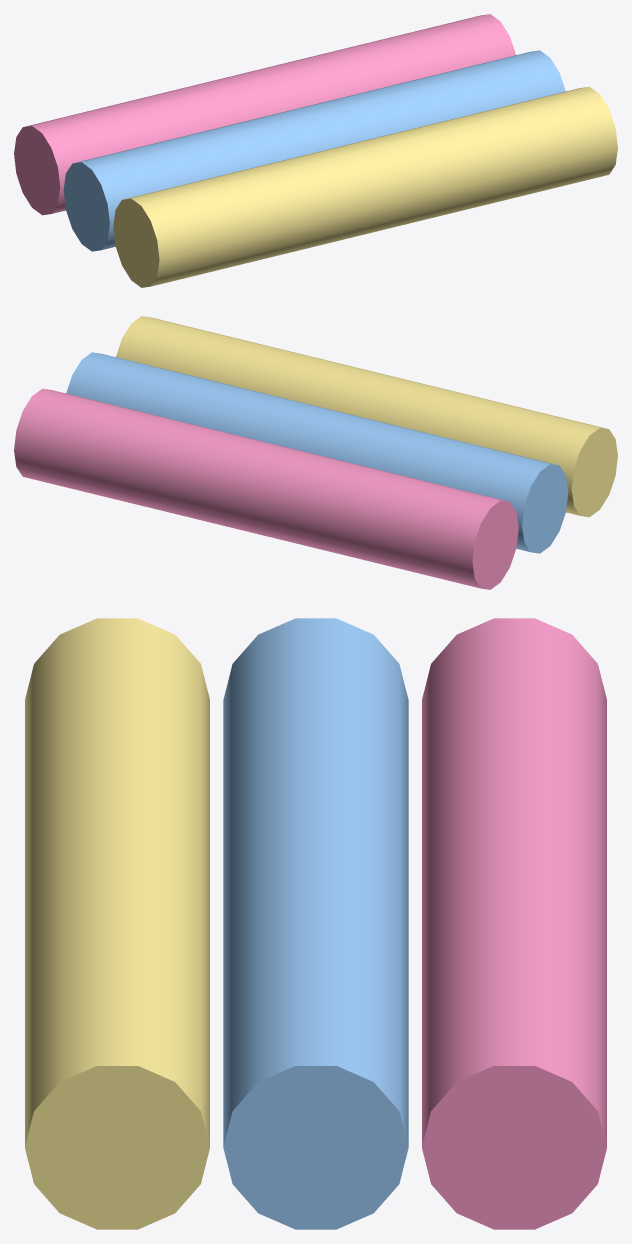
Rendered from fabric_roll.glb.
3 views of the same model, one above another, from view 1: azimuth 30°, elevation 25°; view 2: azimuth 150°, elevation 25°; view 3: azimuth 270°, elevation 25° (orthographic). The views are drawn at different scales.
Visible parts, largest first — view 1: fabric_roll; view 2: fabric_roll; view 3: fabric_roll.
Boxes of the visible parts, x1,y1,x2,y2 form: fabric_roll: (14, 14, 617, 287); fabric_roll: (14, 316, 617, 589); fabric_roll: (25, 618, 606, 1229).
Bounding box in the file's own units: 0.8 × 0.1365 × 0.44.
